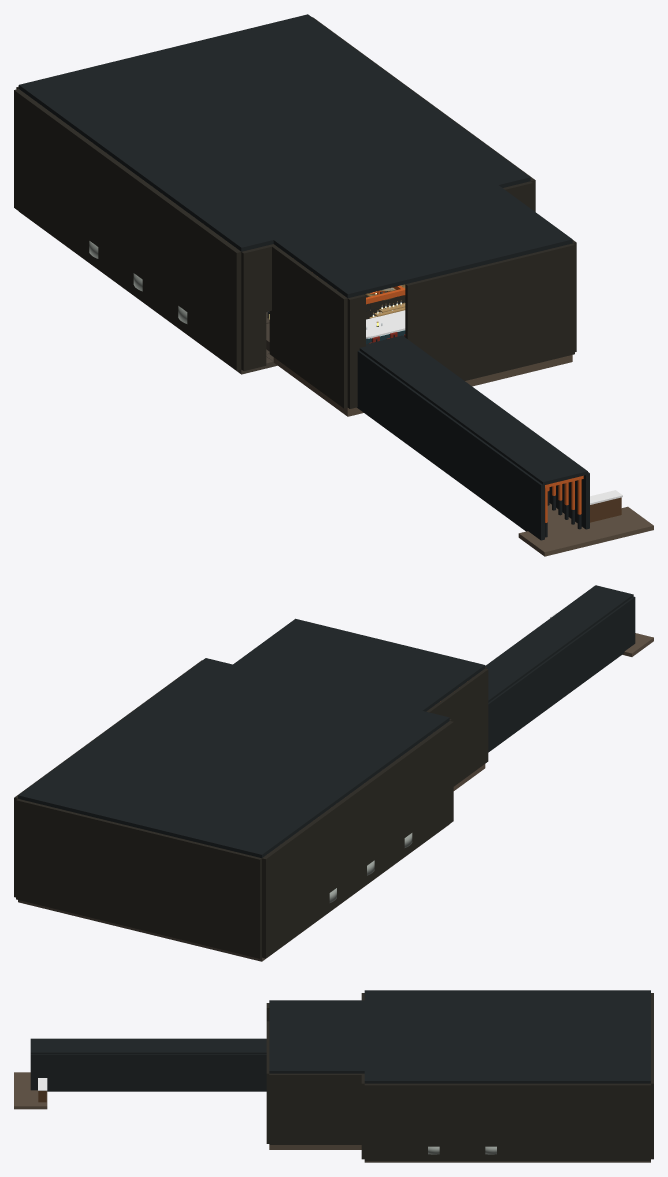
File: koma-interior-v15.glb
The picture shows the model from 3 angles, top to bottom: view 1: azimuth 30°, elevation 25°; view 2: azimuth 150°, elevation 25°; view 3: azimuth 270°, elevation 25°; orthographic projection. The views are drawn at different scales.
Visible parts, largest first — view 1: koma-ceiling, koma-shell, koma-passage, koma-partition, koma-lounge; view 2: koma-ceiling, koma-shell, koma-passage; view 3: koma-ceiling, koma-shell, koma-passage, koma-partition.
Boxes of the visible parts, x1,y1,x2,y2 form: koma-ceiling: [18, 14, 572, 304]; koma-shell: [14, 17, 576, 416]; koma-passage: [357, 335, 653, 556]; koma-partition: [241, 181, 532, 370]; koma-lounge: [366, 303, 405, 344]; koma-ceiling: [18, 618, 485, 858]; koma-shell: [14, 660, 488, 961]; koma-passage: [485, 585, 653, 752]; koma-ceiling: [269, 990, 650, 1083]; koma-shell: [266, 993, 653, 1162]; koma-passage: [14, 1038, 266, 1109]; koma-partition: [361, 993, 364, 1159].
Size of the model in its own units: 18.78 by 7.54 by 53.65.
